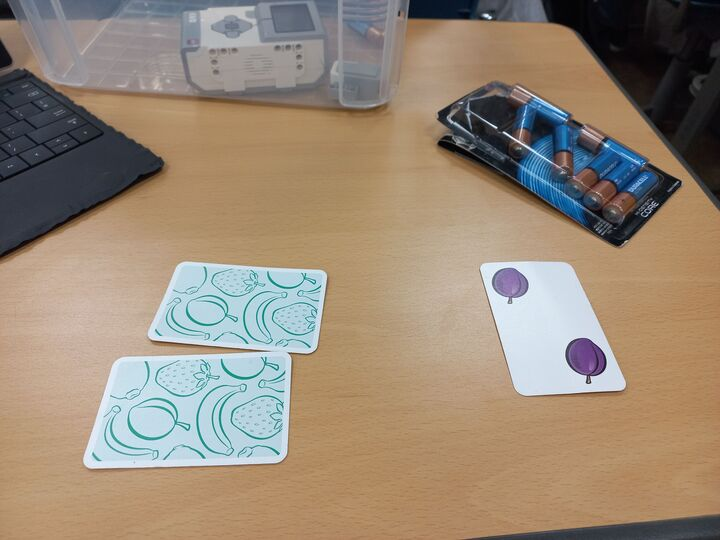plum2: (477, 260, 630, 397)
